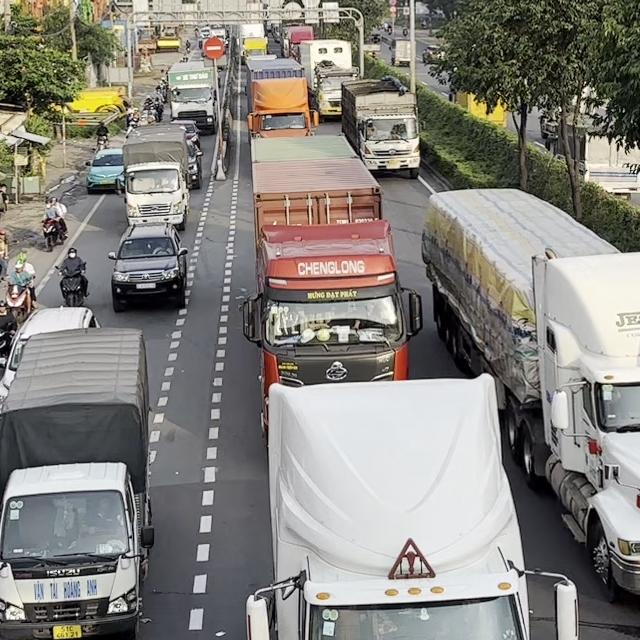car: (0, 305, 101, 407), (107, 220, 188, 312), (84, 147, 125, 194)
motorcycle: (53, 264, 88, 307), (4, 275, 35, 317), (41, 216, 67, 250)
truck: (420, 186, 639, 598), (245, 373, 579, 639), (235, 135, 422, 440), (0, 325, 154, 639), (340, 75, 420, 178), (119, 129, 190, 230), (242, 56, 318, 139), (298, 38, 359, 121), (166, 61, 218, 134), (281, 25, 314, 60)
